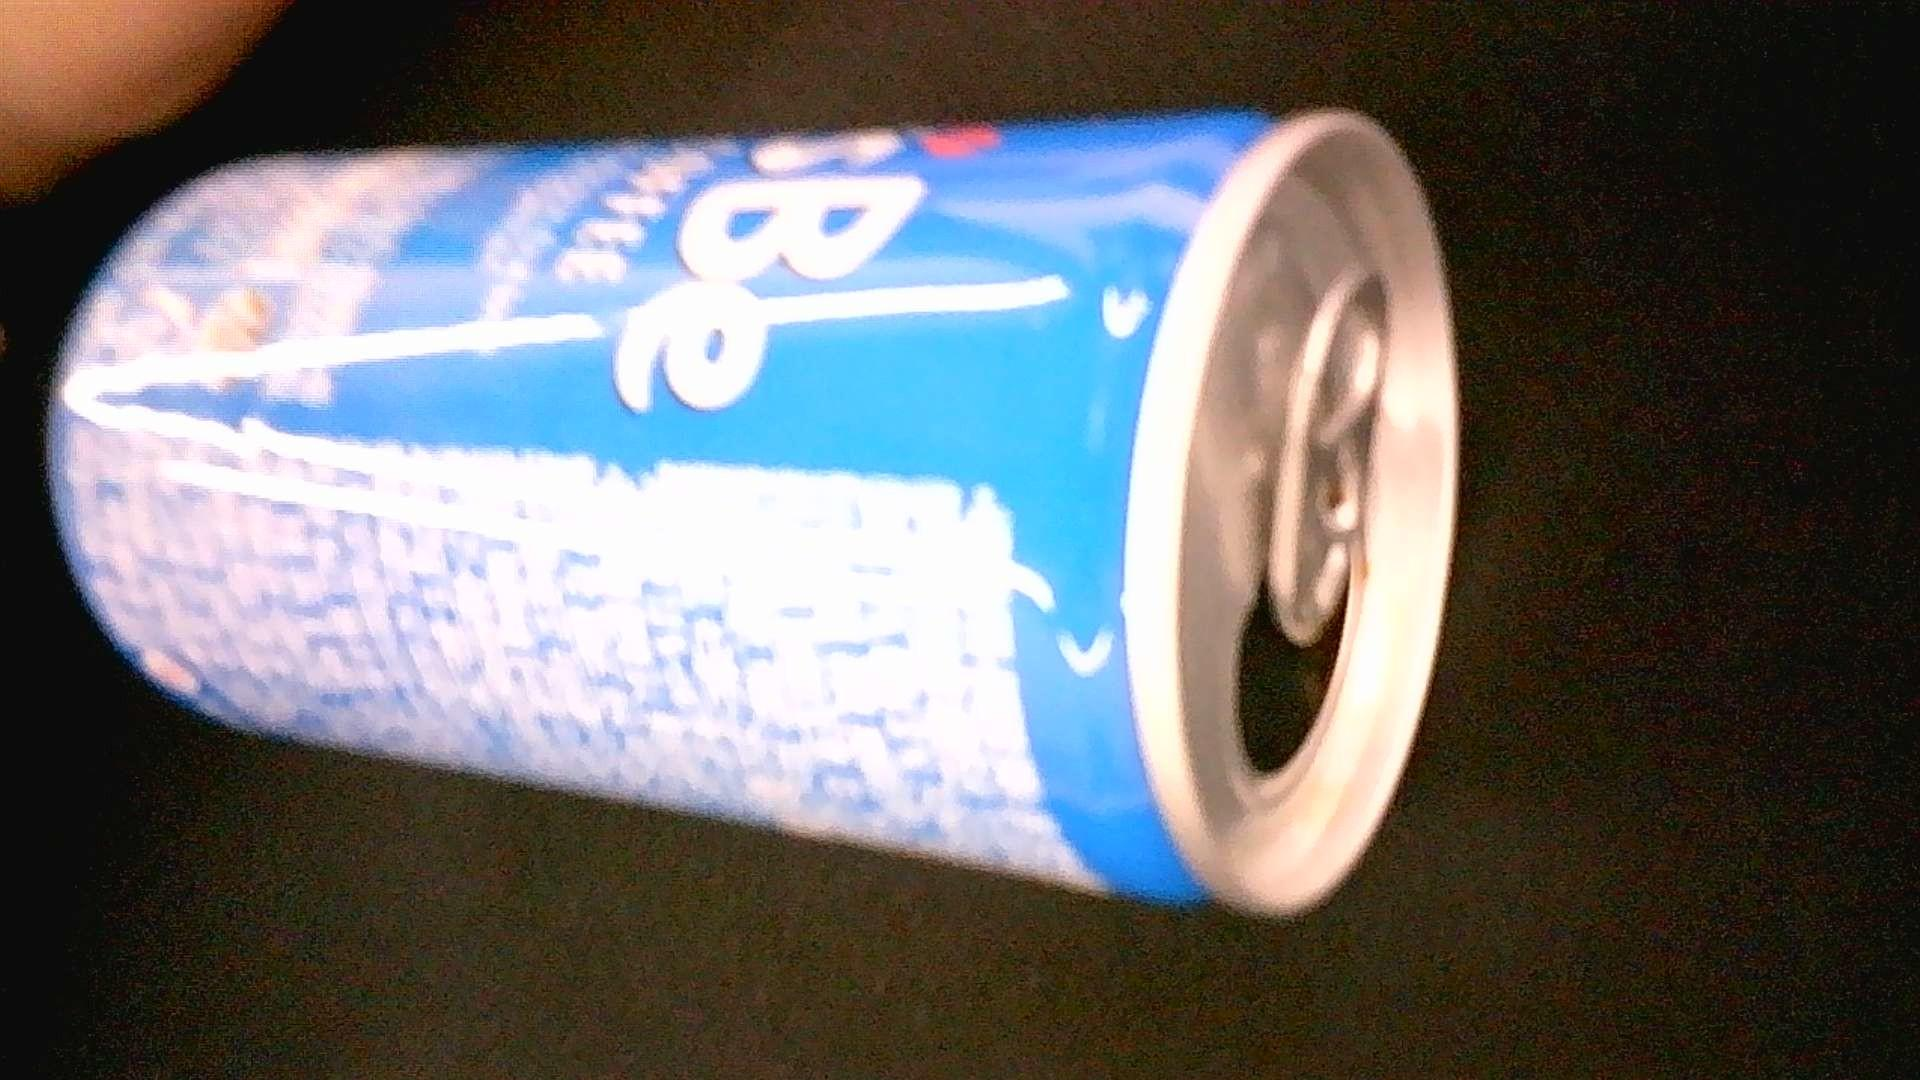letsbe: (46, 100, 1461, 919)
